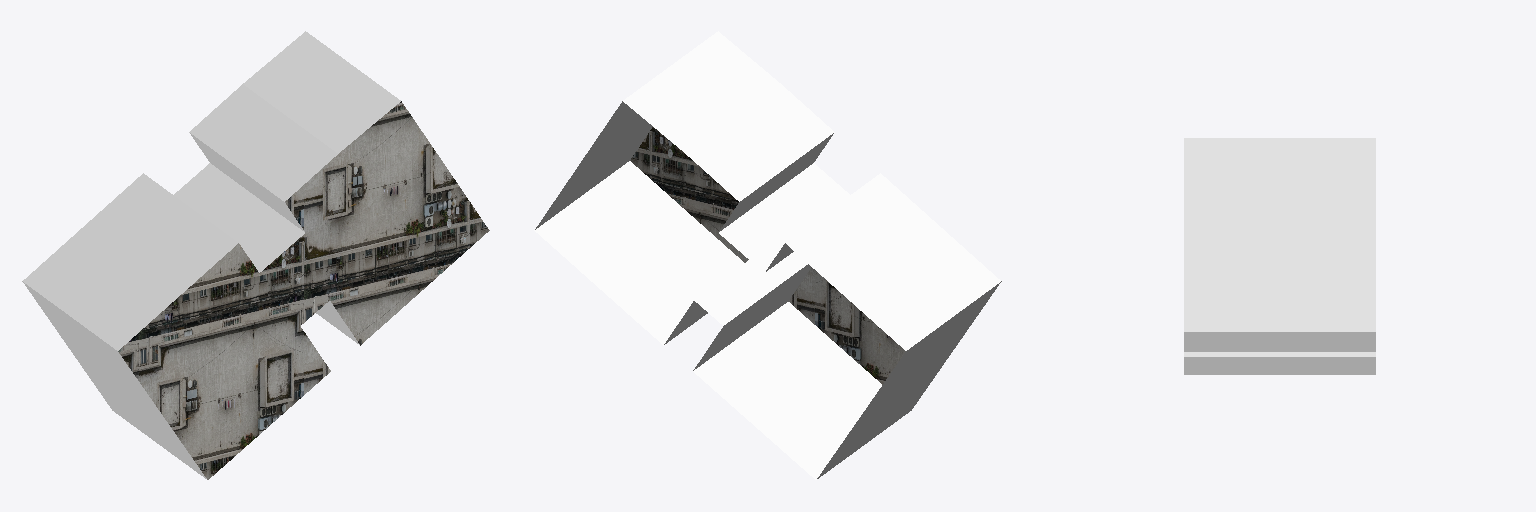
The picture shows the model from 3 angles: view 1: azimuth 30°, elevation 25°; view 2: azimuth 150°, elevation 25°; view 3: azimuth 270°, elevation 25°; orthographic projection.
Visible parts, largest first — view 1: Building; view 2: Building; view 3: Building.
Part boxes in pixels (left/top/right/bottom): Building: left=22, top=31, right=489, bottom=479; Building: left=534, top=31, right=1001, bottom=479; Building: left=1184, top=138, right=1375, bottom=374.
Bounding box in the file's own units: 26.95 × 23.01 × 12.
Materials: 2 (1 with a texture image).